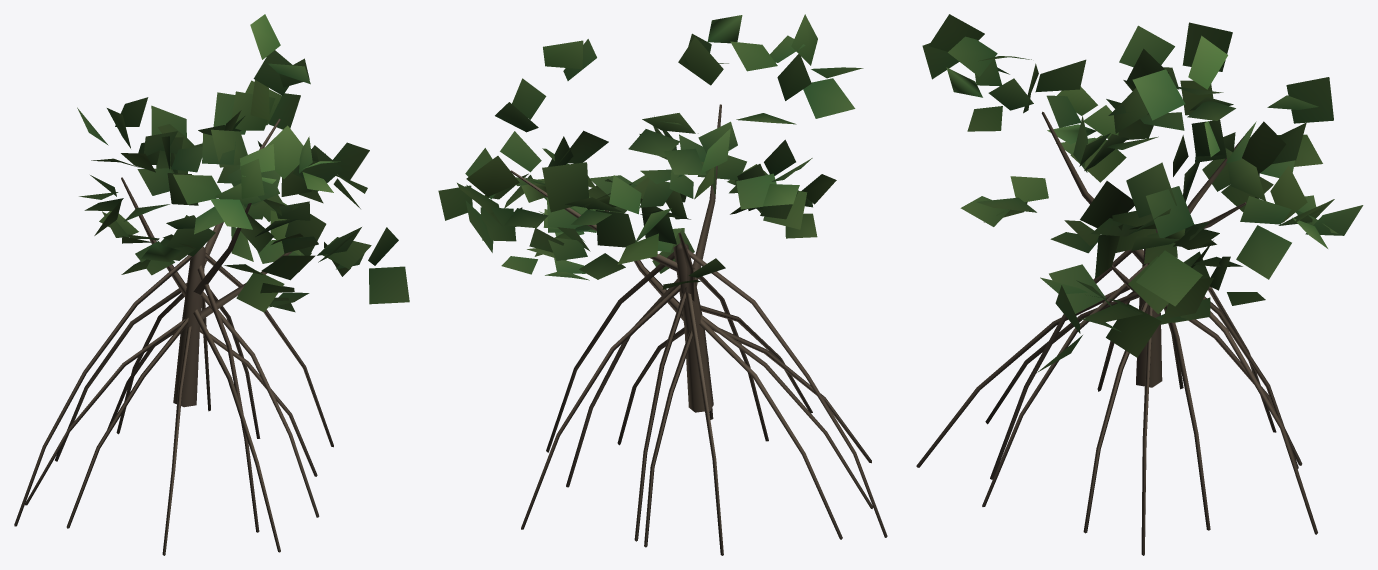
Rendered from mangrove-b.lod2.glb.
3 views of the same model, side by side, from view 1: azimuth 30°, elevation 25°; view 2: azimuth 150°, elevation 25°; view 3: azimuth 270°, elevation 25° (orthographic). The views are drawn at different scales.
Size of the model in its own units: 6.16 by 6.8 by 5.58.
